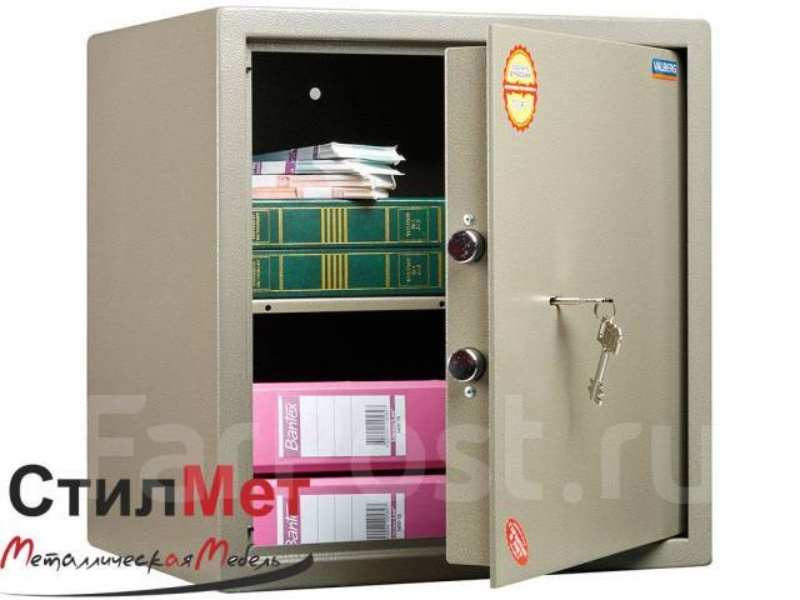cash: (252, 142, 404, 201)
